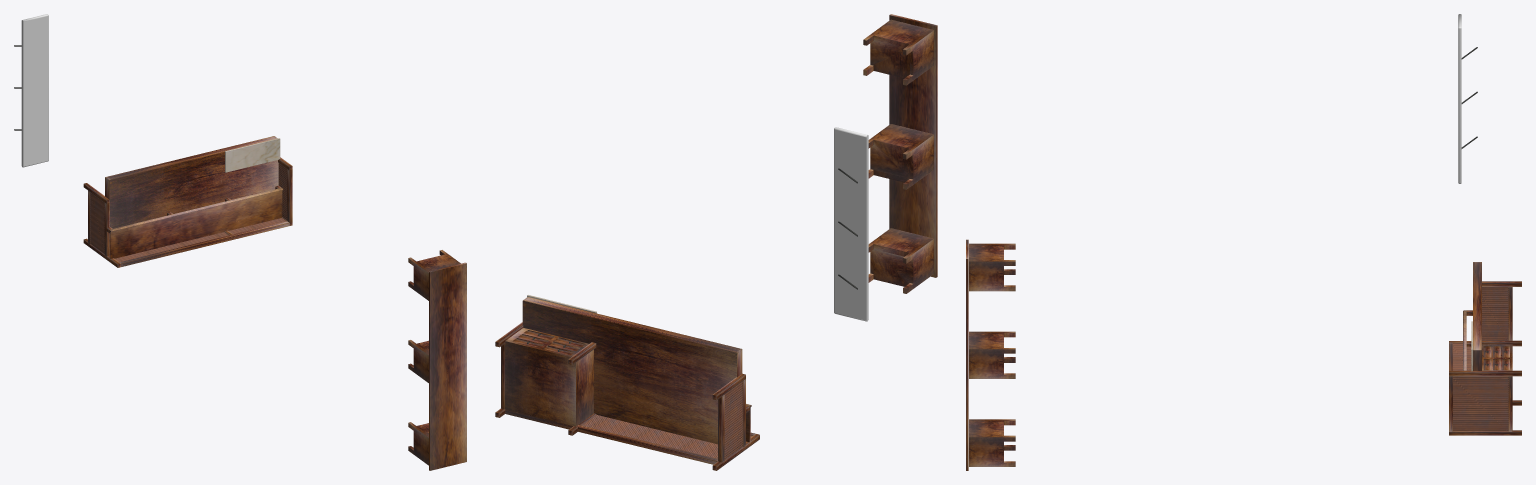
Rendered from castelo_mourisco_objetos.fbx.
3 renders of one model, left to right at view 1: azimuth 30°, elevation 25°; view 2: azimuth 150°, elevation 25°; view 3: azimuth 270°, elevation 25°, orthographic. The views are drawn at different scales.
Parts seen in each view (by area): view 1: bancada_adolfo_lutz, bancada_madeira, prateleira_parede; view 2: bancada_adolfo_lutz, bancada_madeira, prateleira_parede; view 3: bancada_adolfo_lutz, bancada_madeira, prateleira_parede.
Part boxes in pixels (box(x1,y1,x2,y2)): bancada_adolfo_lutz: box(83, 136, 292, 267); bancada_madeira: box(408, 250, 466, 470); prateleira_parede: box(14, 14, 48, 167); bancada_adolfo_lutz: box(495, 295, 759, 470); bancada_madeira: box(863, 14, 937, 293); prateleira_parede: box(834, 127, 868, 321); bancada_adolfo_lutz: box(1449, 262, 1521, 435); bancada_madeira: box(966, 239, 1015, 470); prateleira_parede: box(1458, 14, 1477, 183).
Bounding box in the file's own units: 529 × 619 × 901.
5 materials, 4 textured.
